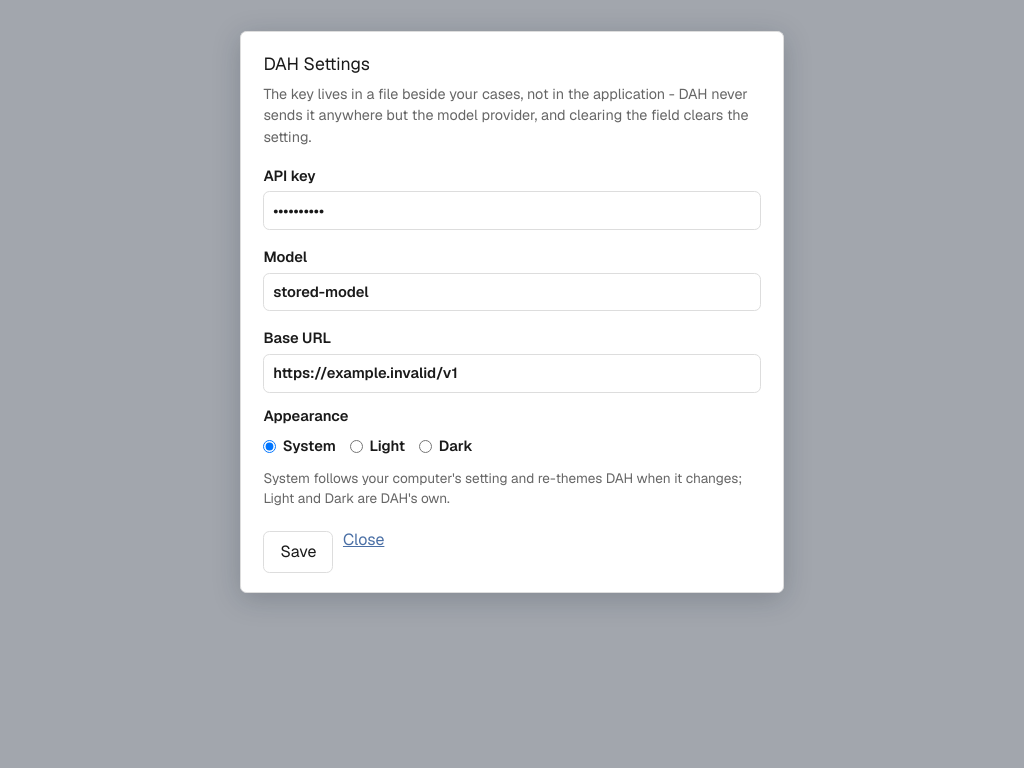
Test: LlmSettingsPanel › says it when a save leaves the LLM still unconfigured
Expected: the password field with placeholder "sk-…" is shown, 263,191 -> 761,230
Click the button "Save" at point(298, 552), box 263,531 -> 333,573
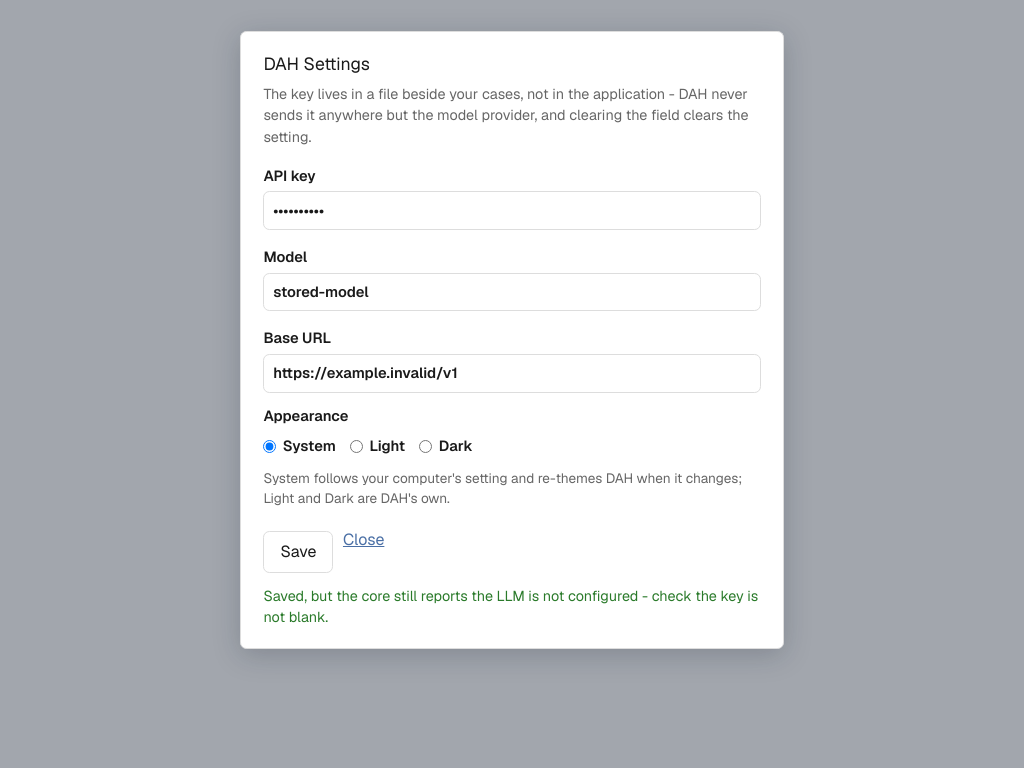
Expected: the text "still reports the LLM is not configured" is shown, 263,587 -> 758,626
